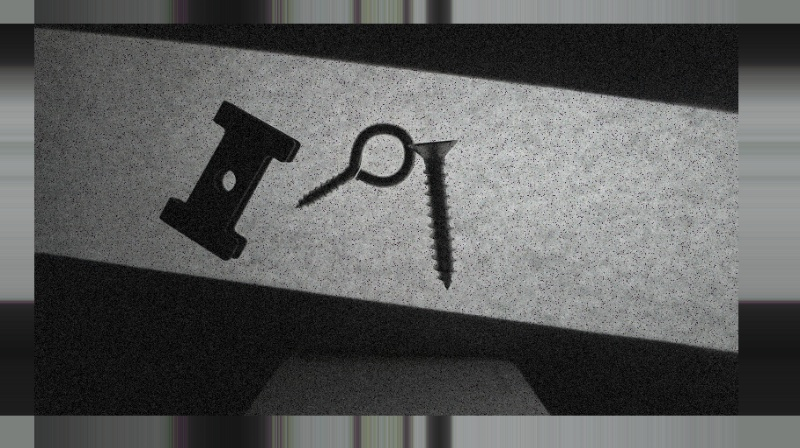O001: (293, 122, 417, 210)
O002: (158, 97, 298, 264)
S001: (408, 135, 460, 290)
